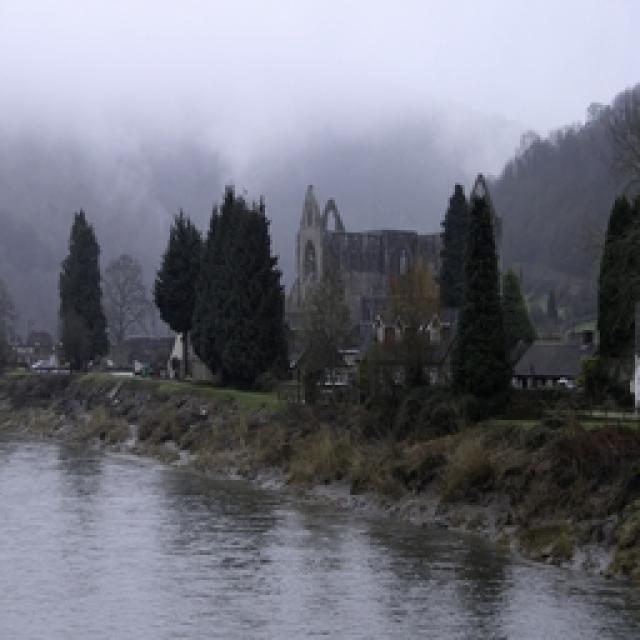Abbey: (281, 174, 506, 394)
